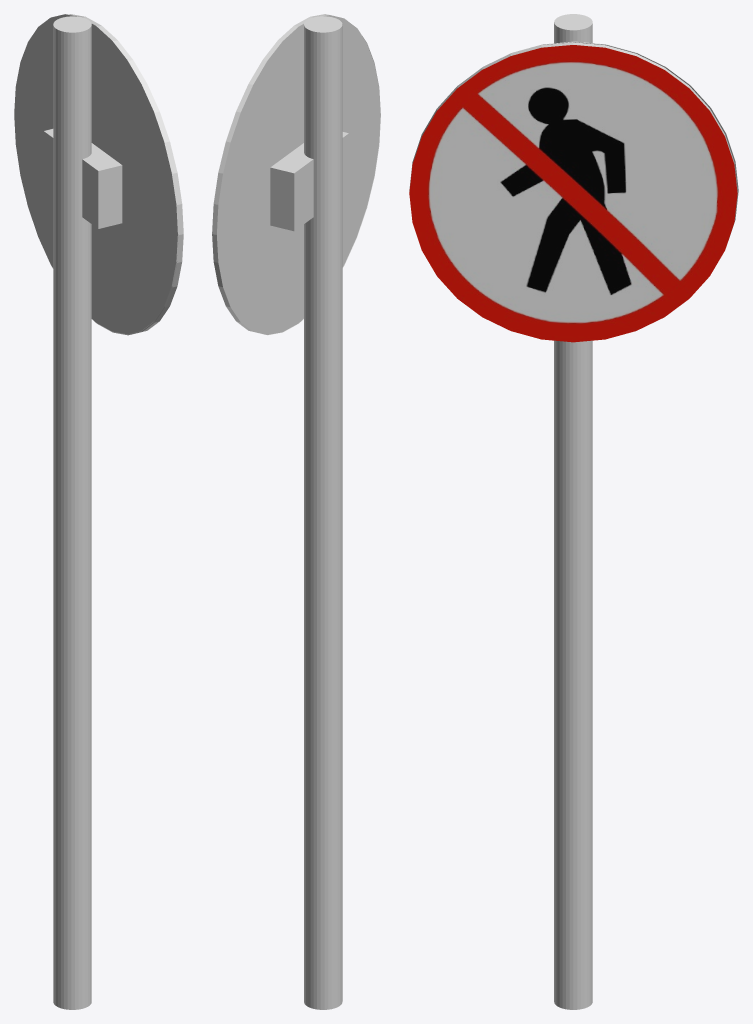
The model's file is RambuLaranganMenyebrang.fbx.
3 views of the same model, side by side, from view 1: azimuth 30°, elevation 25°; view 2: azimuth 150°, elevation 25°; view 3: azimuth 270°, elevation 25° (orthographic).
Visible parts, largest first — view 1: Cylinder, Cylinder.001, Cube; view 2: Cylinder, Cylinder.001, Cube; view 3: Cylinder.001, Cylinder.
Part boxes in pixels (<box>): Cylinder: <box>53,16,91,1009</box>; Cylinder.001: <box>14,14,183,335</box>; Cube: <box>43,129,122,228</box>; Cylinder: <box>304,16,342,1009</box>; Cylinder.001: <box>212,14,380,335</box>; Cube: <box>270,132,348,231</box>; Cylinder.001: <box>409,41,738,342</box>; Cylinder: <box>554,14,592,1009</box>.
Bounding box in the file's own units: 35.85 × 727 × 222.
